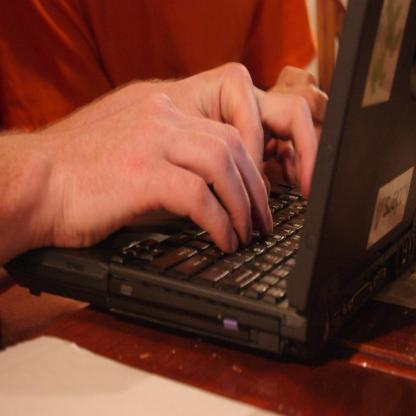board: (11, 1, 416, 363)
